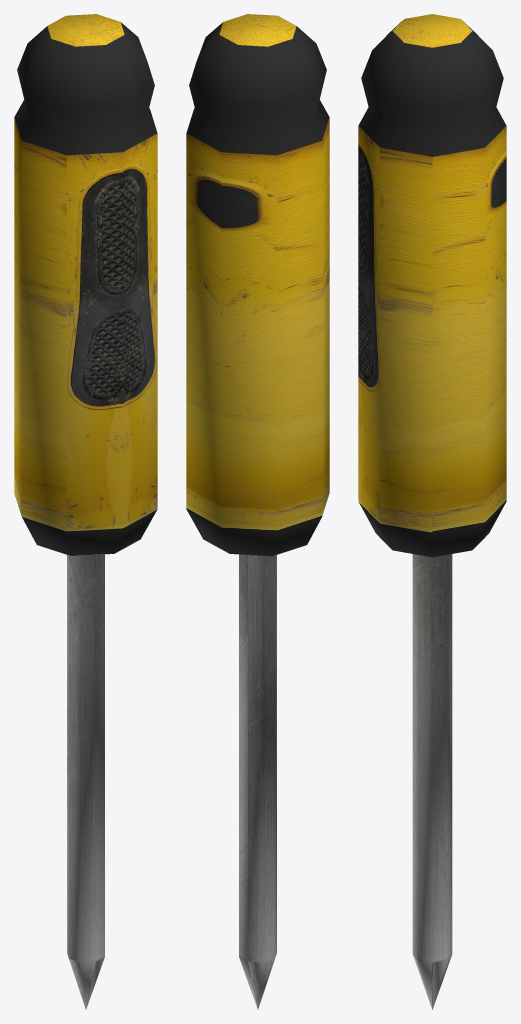
The model's file is ScrewDriver.fbx.
3 renders of one model, left to right at view 1: azimuth 30°, elevation 25°; view 2: azimuth 150°, elevation 25°; view 3: azimuth 270°, elevation 25°, orthographic.
Parts seen in each view (by area): view 1: ScrewDriver; view 2: ScrewDriver; view 3: ScrewDriver.
Part boxes in pixels (x1=…): ScrewDriver: x1=14, y1=14, x2=157, y2=1009; ScrewDriver: x1=186, y1=14, x2=329, y2=1009; ScrewDriver: x1=358, y1=14, x2=506, y2=1009.
Bounding box in the file's own units: 8.4 × 61.29 × 8.4.
